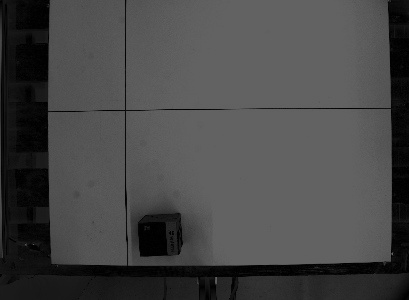b7: (134, 211, 184, 258)
